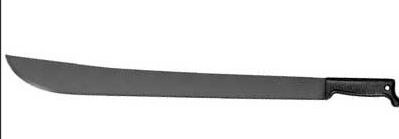MACHETTE: (5, 50, 399, 138)
